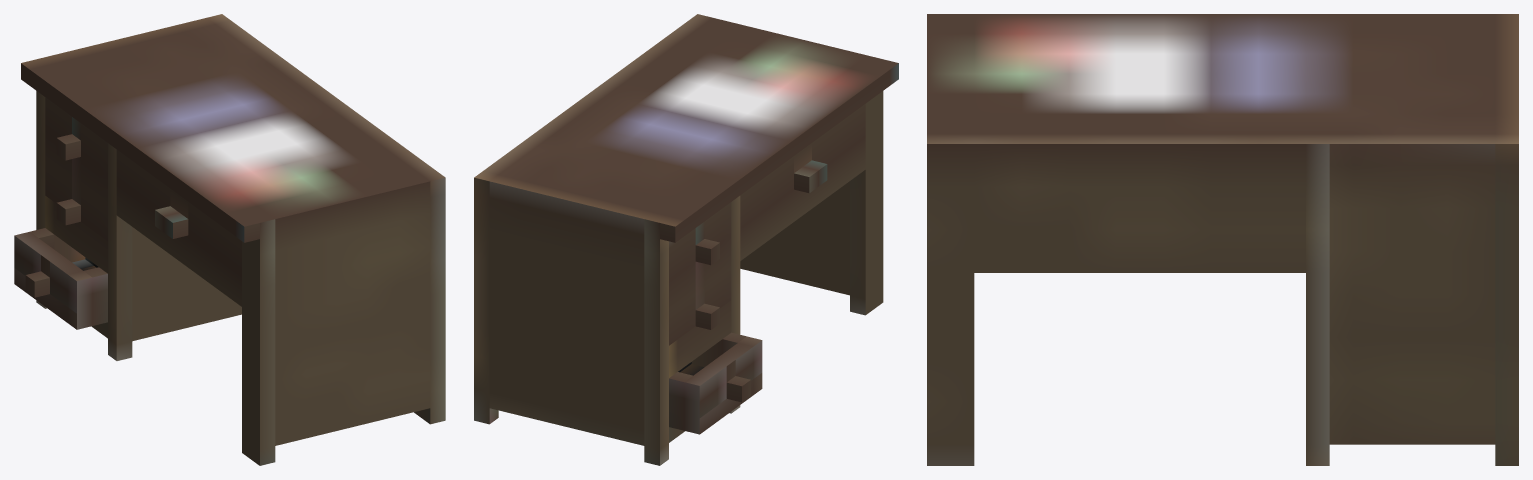
The model's file is OfficeDesk_00.fbx.
3 views of the same model, side by side, from view 1: azimuth 30°, elevation 25°; view 2: azimuth 150°, elevation 25°; view 3: azimuth 270°, elevation 25° (orthographic). The views are drawn at different scales.
Parts seen in each view (by area): view 1: OfficeDesk_00; view 2: OfficeDesk_00; view 3: OfficeDesk_00.
Part boxes in pixels (x1=…): OfficeDesk_00: x1=14, y1=14, x2=445, y2=465; OfficeDesk_00: x1=474, y1=14, x2=898, y2=465; OfficeDesk_00: x1=927, y1=14, x2=1518, y2=465.
Size of the model in its own units: 75 by 125 by 75.
Materials: 1 (1 with a texture image).
